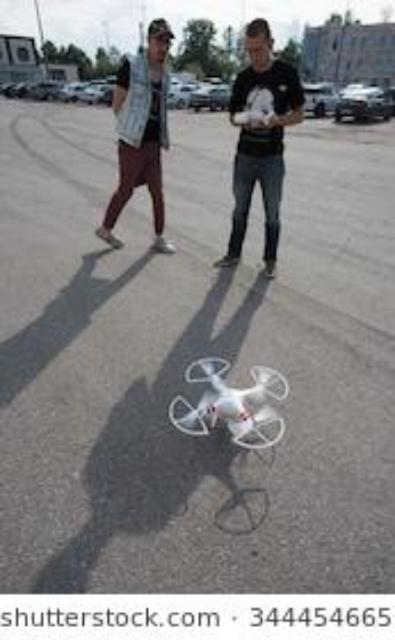drone: (114, 316, 354, 472)
